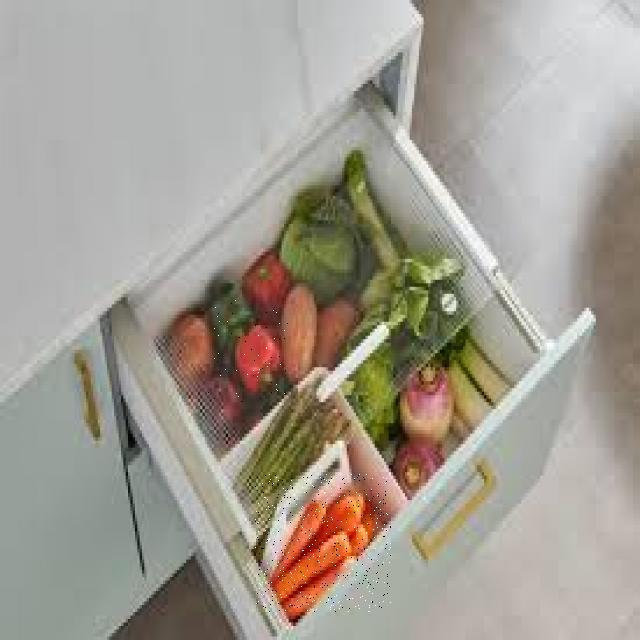carrots: (255, 474, 391, 612)
peppers: (208, 300, 288, 402)
